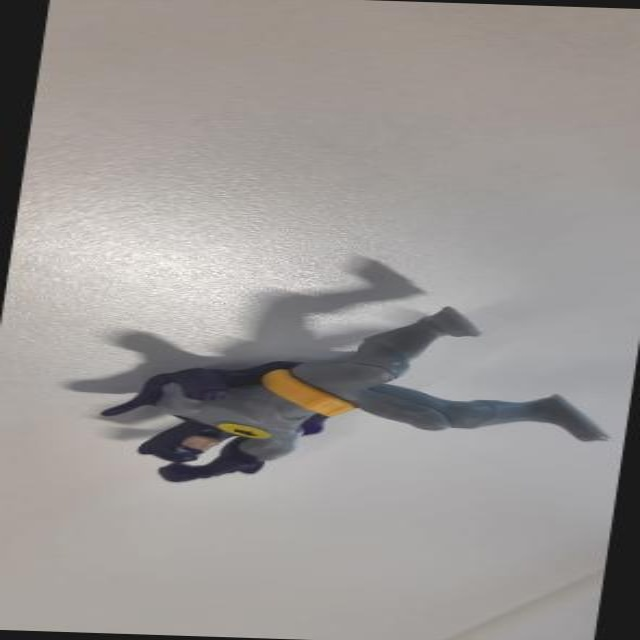Batman: (91, 300, 623, 496)
